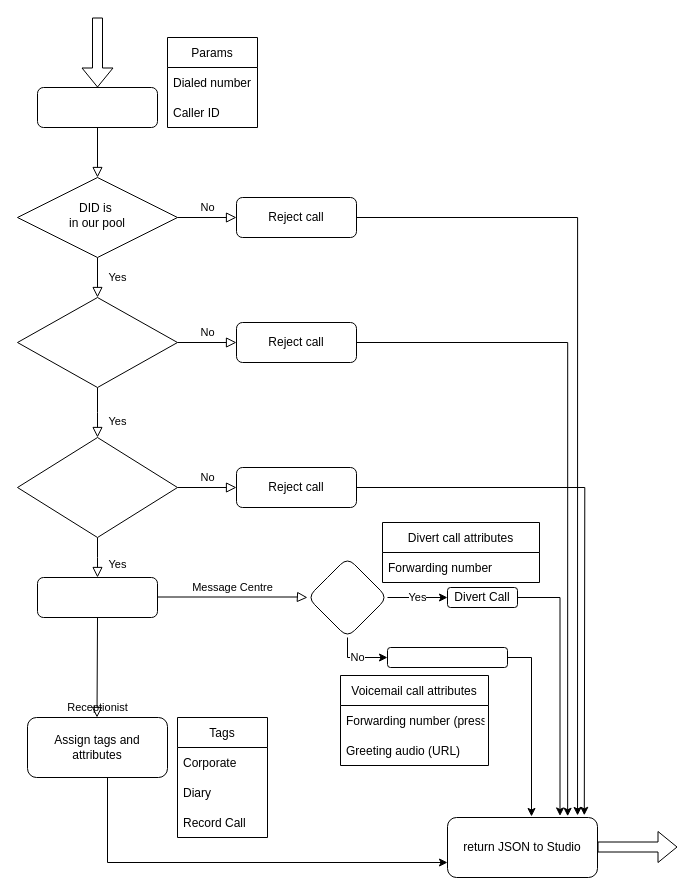
The diagram is 695 pixels wide and 895 high, and some of its shapes have lost their labels. Here are the shapes that lost their labels. From the top down, the centre of each, then its label:
At (x=97, y=107): "API request from Studio".
At (x=97, y=342): "DID is allocated to a client".
At (x=97, y=487): "Client status Active or Pending with a call plan".
At (x=97, y=597): "Client's call plan".
At (x=347, y=597): "DID behaviour is Divert".
At (x=447, y=657): "Send to voicemail".
